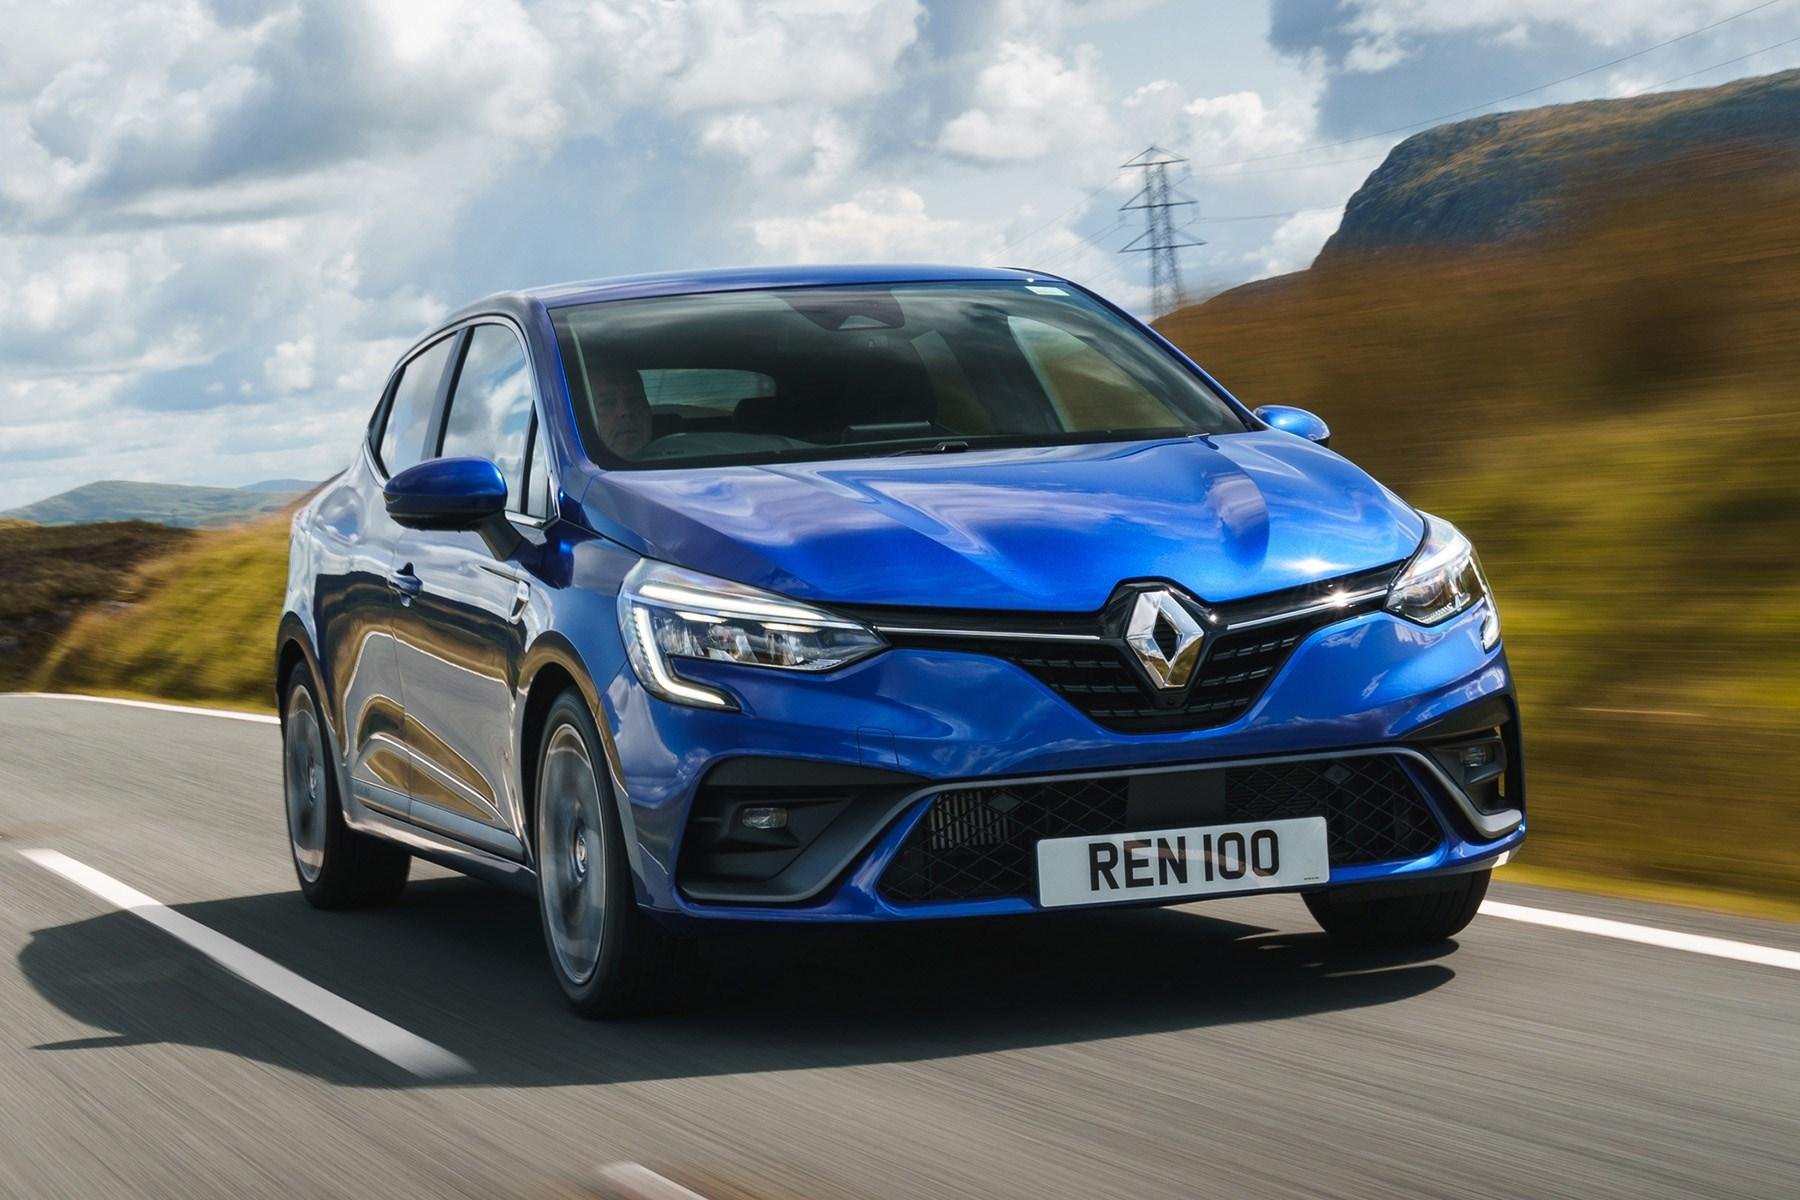Renault: (1105, 579, 1215, 714)
